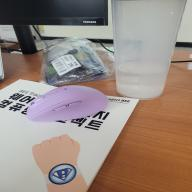mouse: (24, 84, 109, 122)
